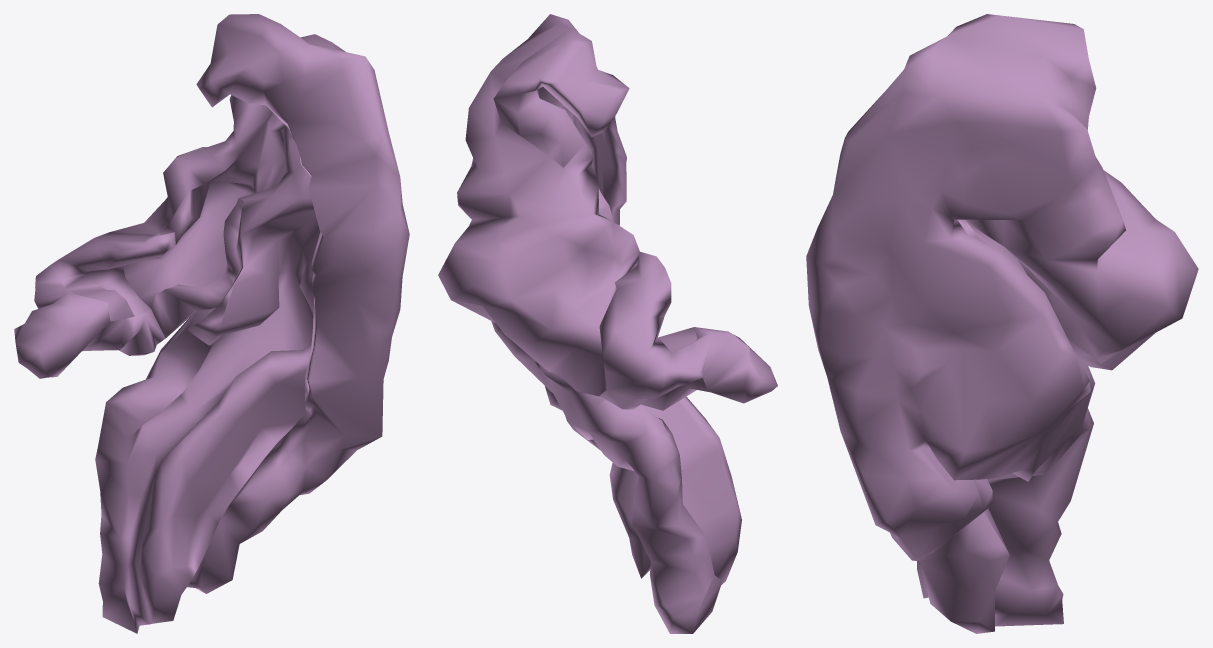
The picture shows the model from 3 angles, left to right: view 1: azimuth 30°, elevation 25°; view 2: azimuth 150°, elevation 25°; view 3: azimuth 270°, elevation 25°; orthographic projection. The views are drawn at different scales.
Visible parts, largest first — view 1: 右侧舌回; view 2: 右侧舌回; view 3: 右侧舌回.
Part boxes in pixels (x1=…): 右侧舌回: x1=14, y1=14, x2=409, y2=633; 右侧舌回: x1=438, y1=14, x2=777, y2=633; 右侧舌回: x1=806, y1=14, x2=1198, y2=633.
Size of the model in its own units: 0.0498 by 0.0897 by 0.0462.
